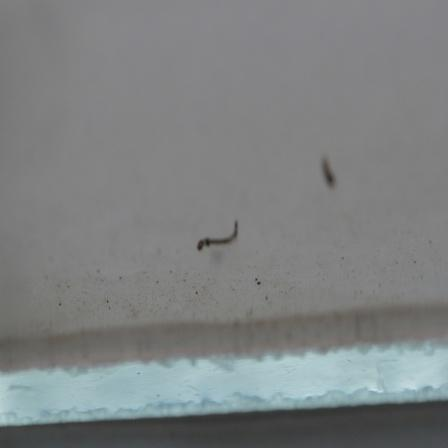Jentik-Nyamuk: (192, 215, 241, 253)
